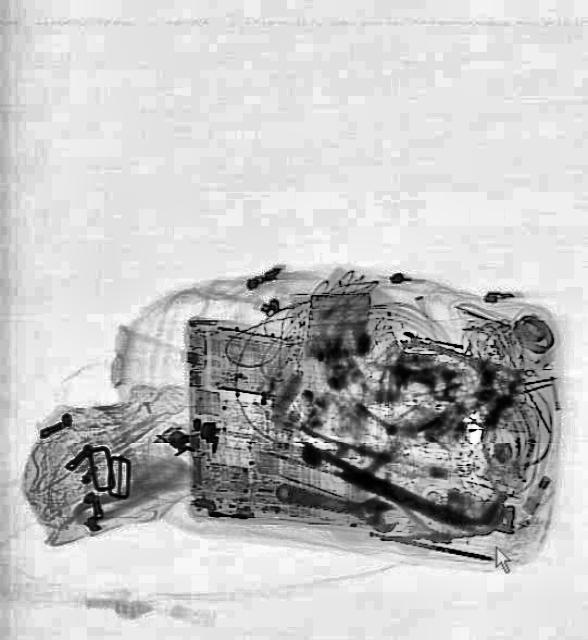Wrench: (272, 476, 400, 534)
